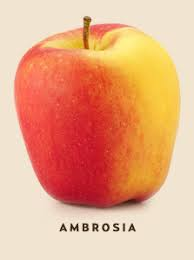apple: (22, 25, 171, 213)
